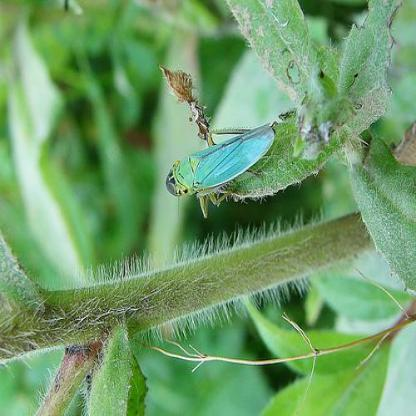Green-Leafhopper: (165, 122, 275, 210)
